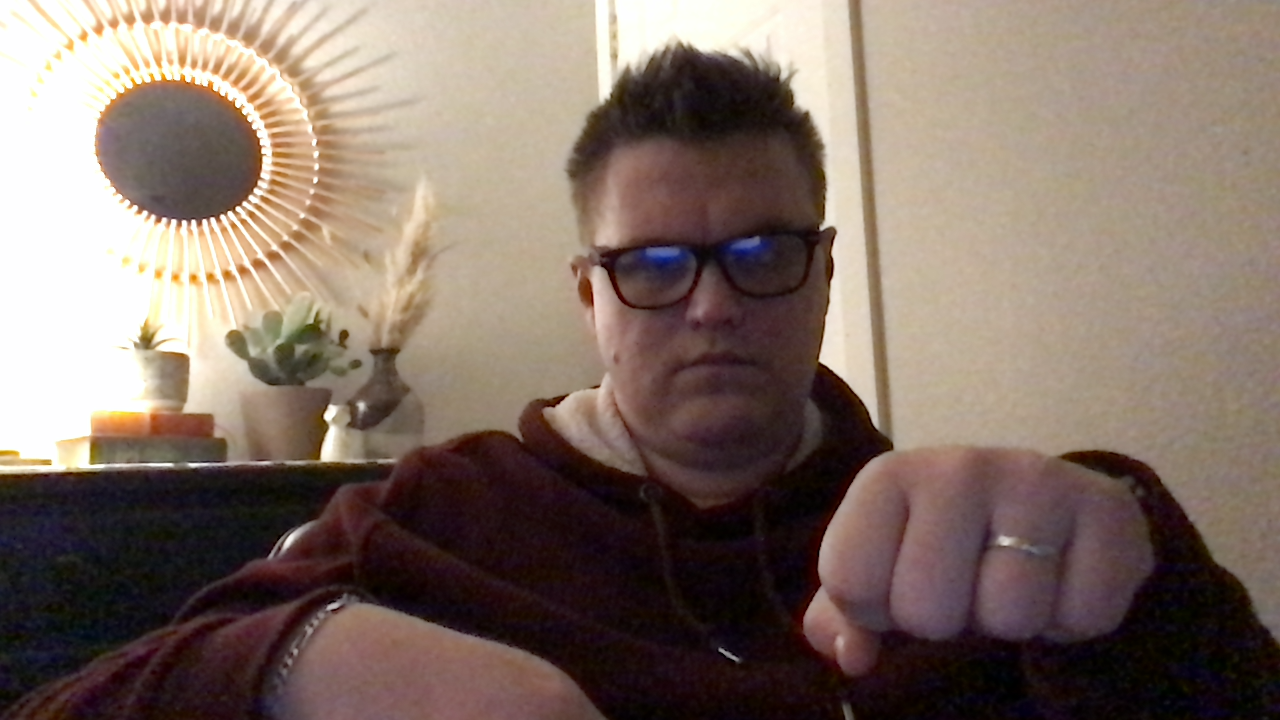yes: (792, 430, 1178, 693)
